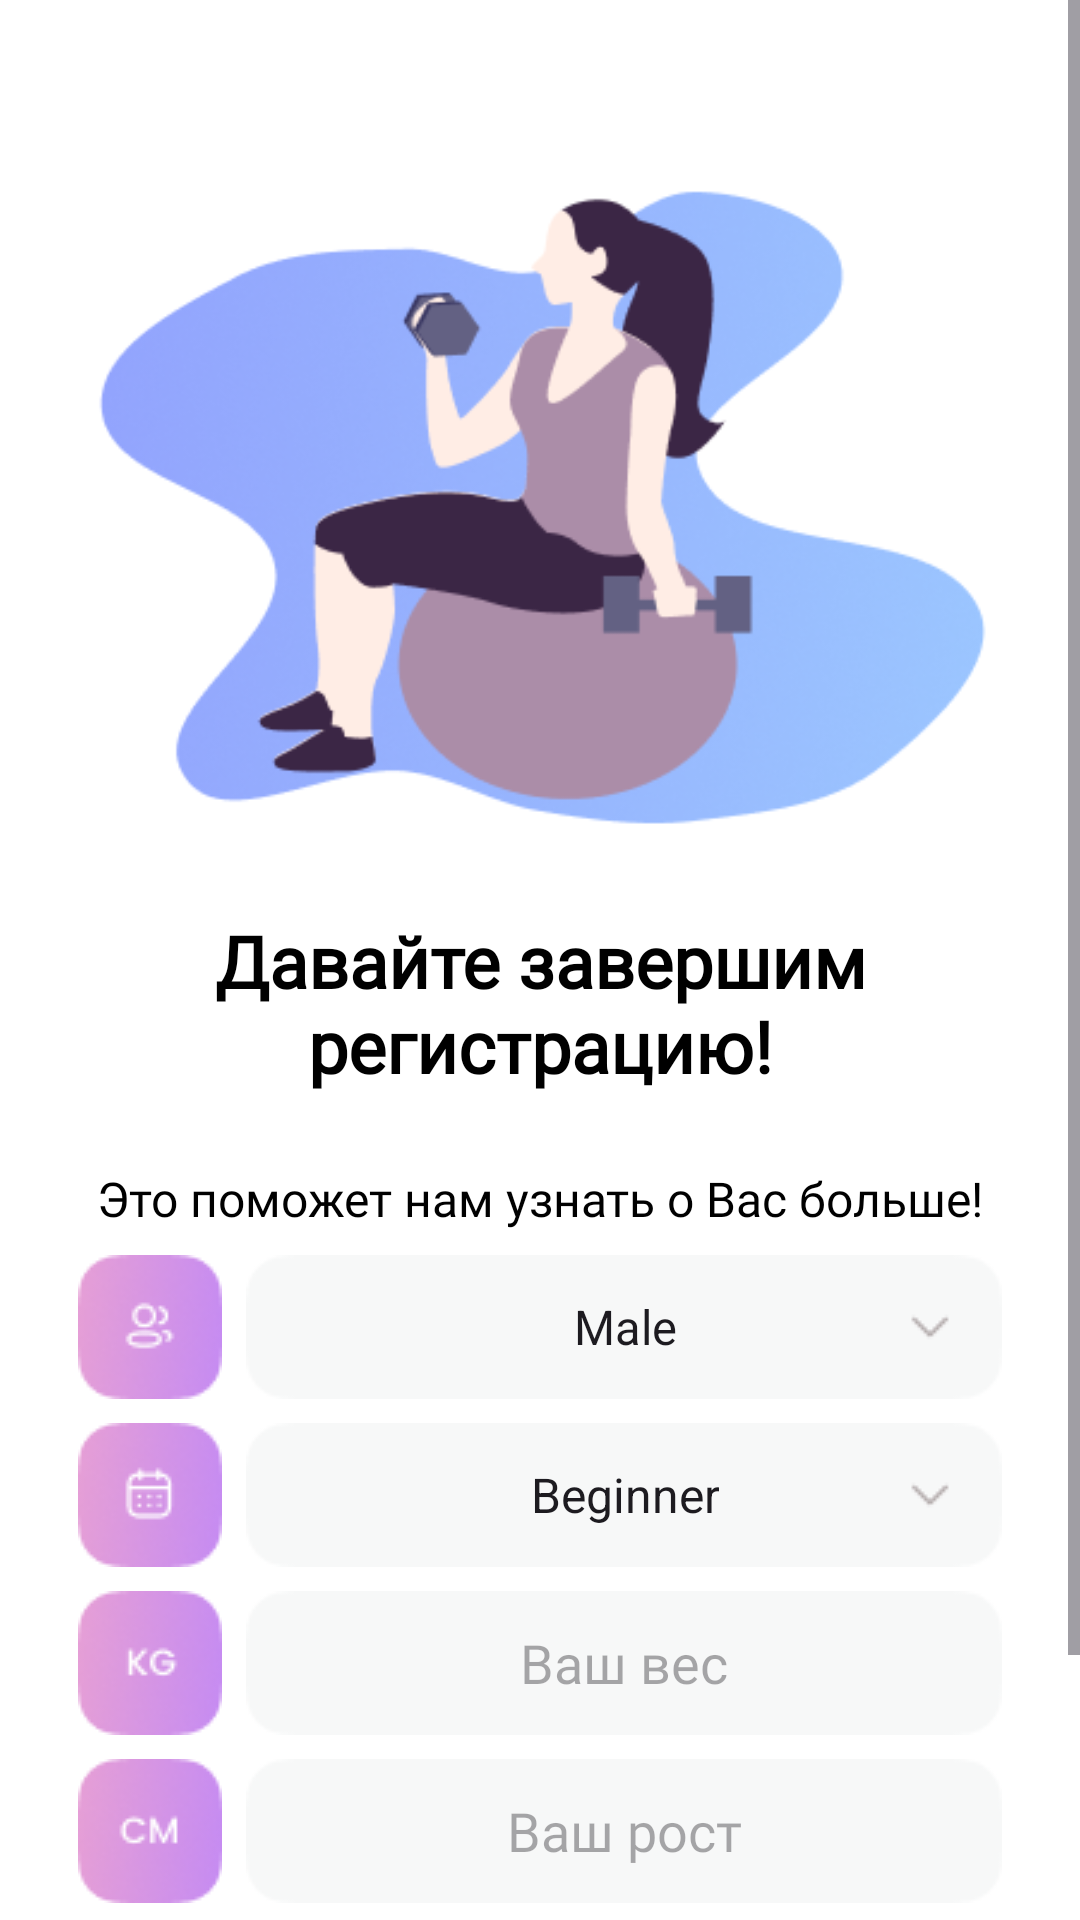

Named icons in this screenshot (1080 × 1920) and their centers, point (x, y):
calendar: point (150, 1495)
